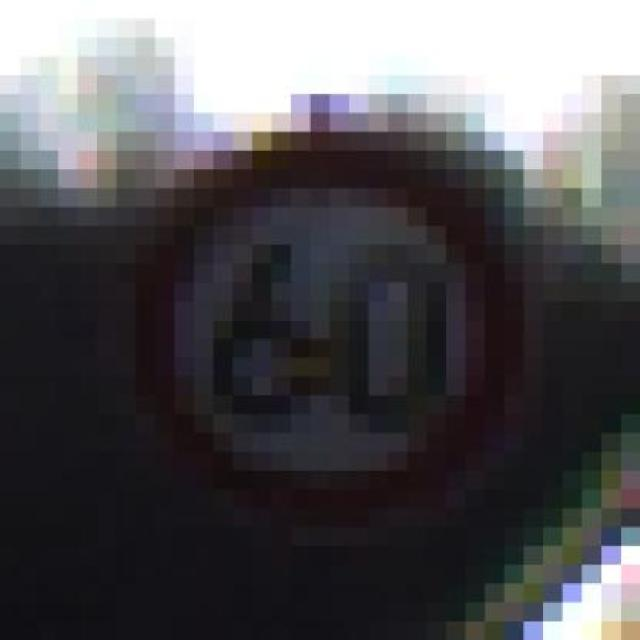forb_speed_over_60: (148, 149, 506, 518)
